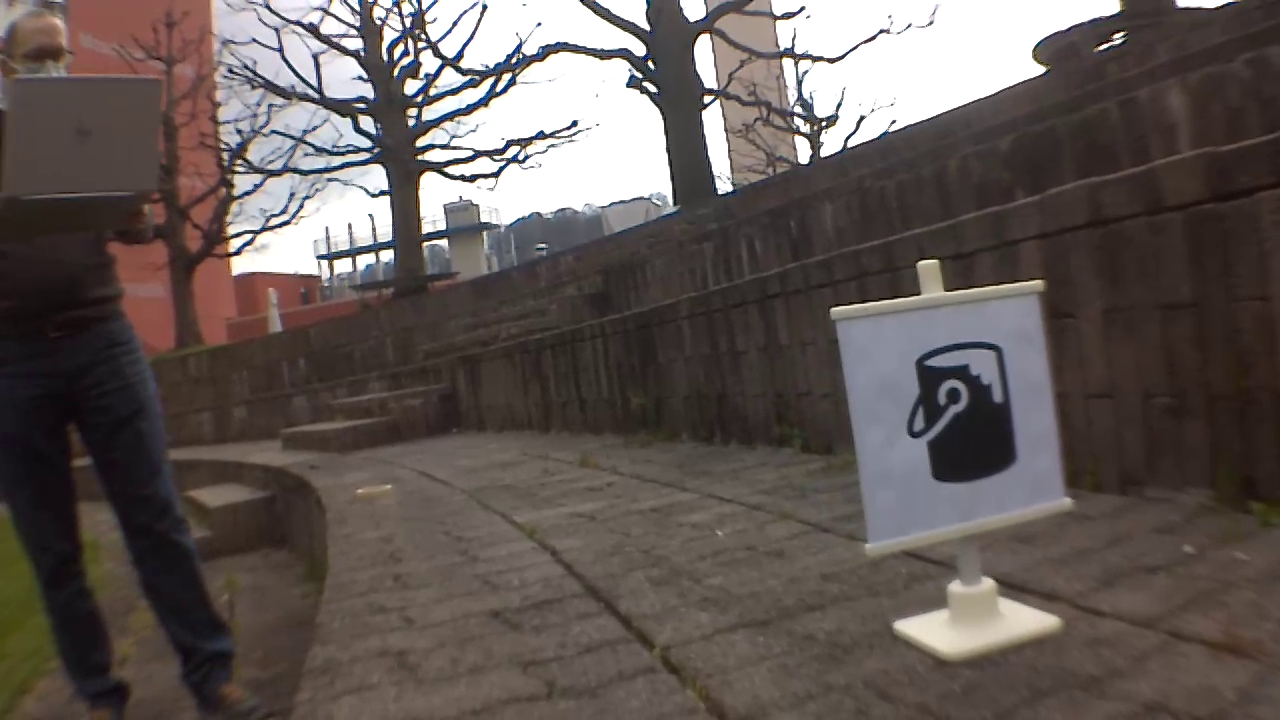bucket: (907, 338, 1018, 488)
